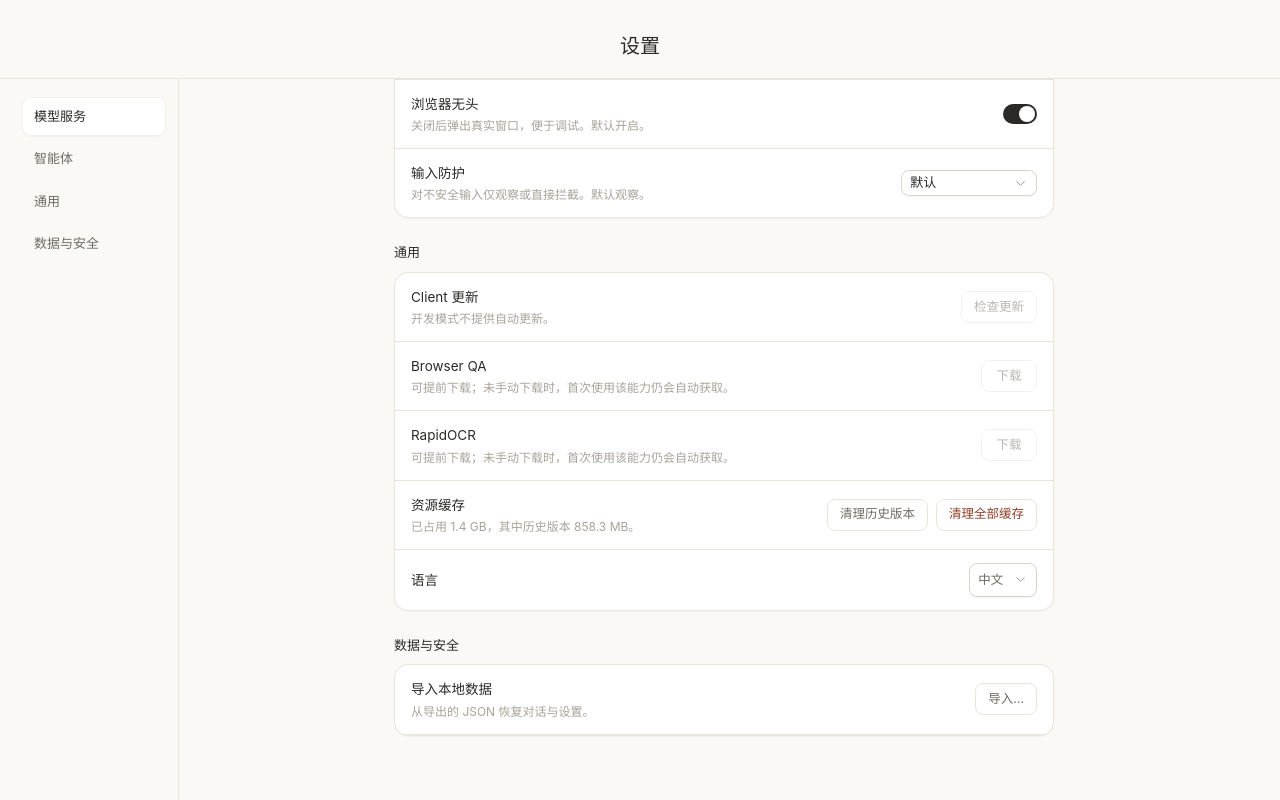
SettingsView › shows storage usage and confirms history or full cache cleanup
(page scrolled)
Expected: the text "已占用 1.4 GB，其中历史版本 858.3 MB。" is shown, [411,519,640,534]
What coordinates should you click on to do the following:
click the button "清理历史版本"
I would click on:
 (878, 515)
Its box is [827,499,928,531].
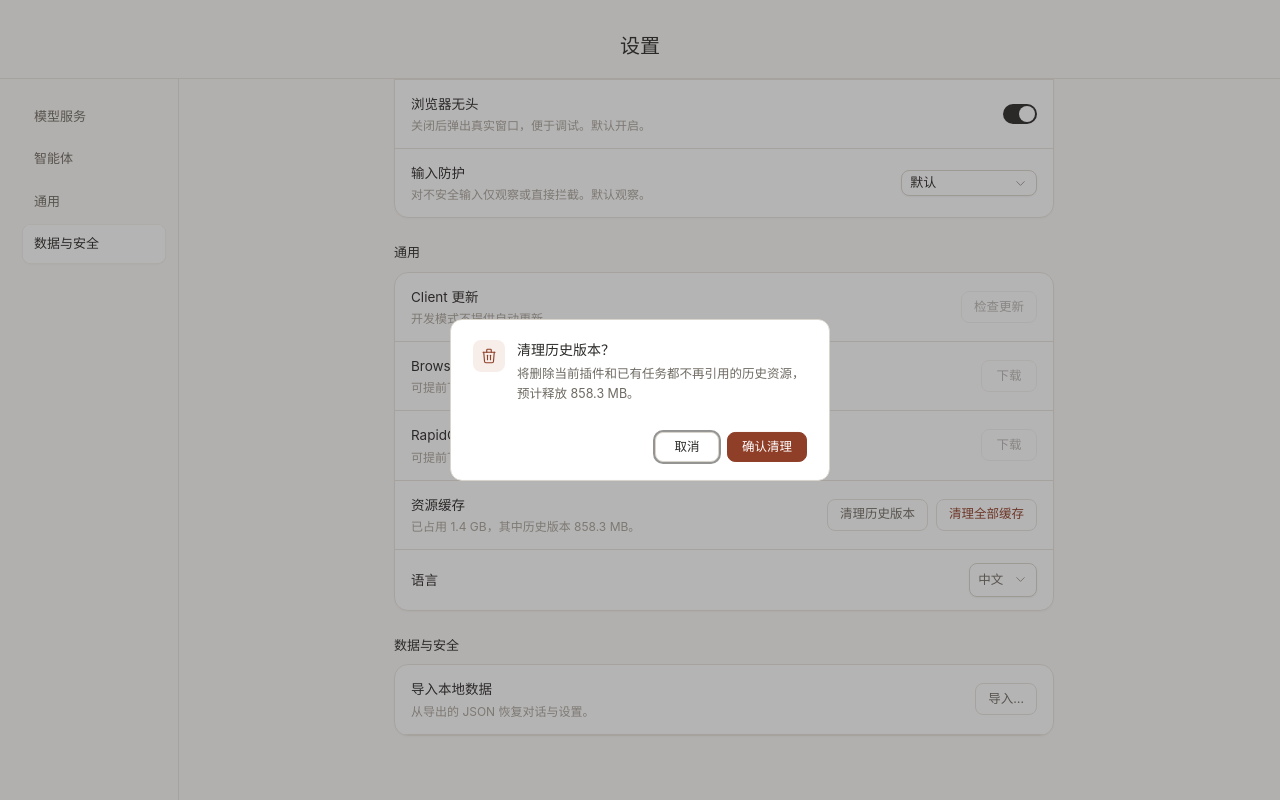
Now the dialog shows "清理历史版本？", box [517,341,615,358]
What coordinates should you click on to do the following:
click the button "确认清理"
I would click on:
 (767, 447)
Its box is [727,432,807,462].
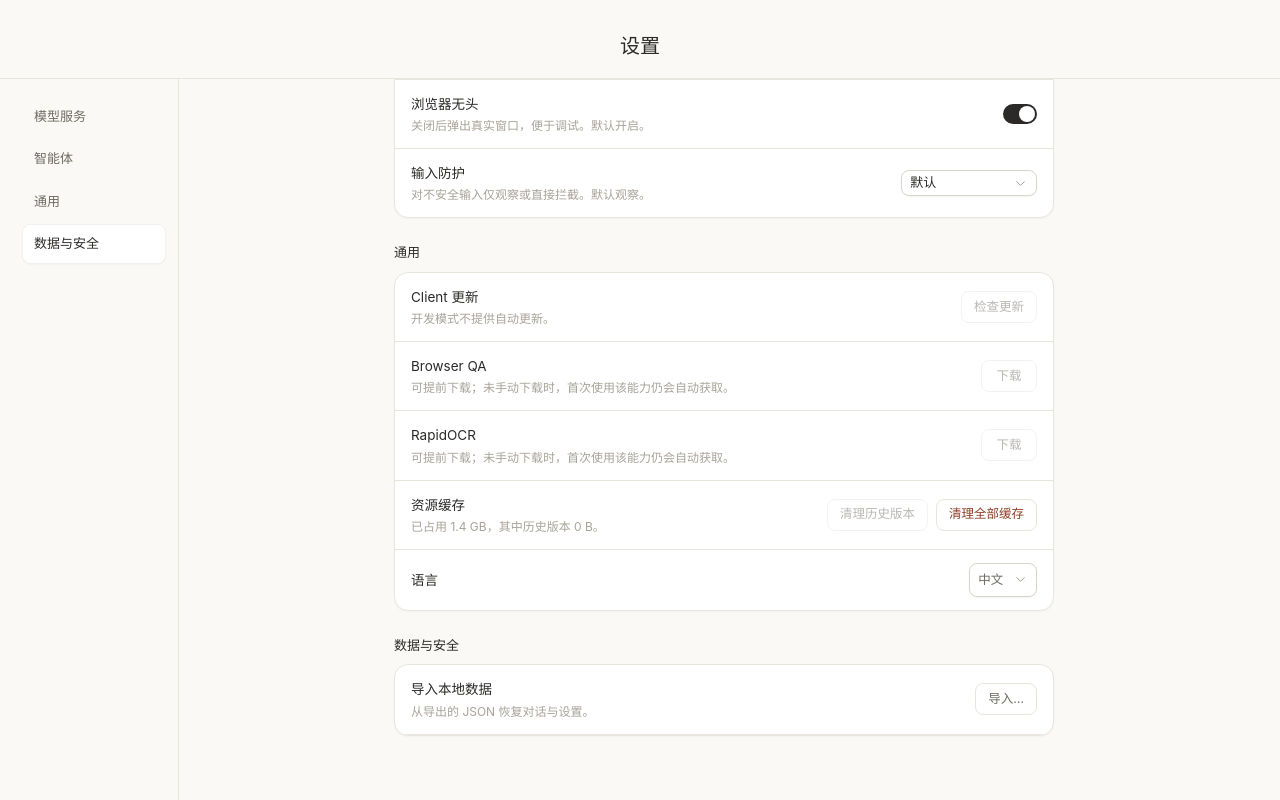
What coordinates should you click on to do the following:
click the button "清理全部缓存"
I would click on:
 (986, 515)
Its box is [936,499,1037,531].
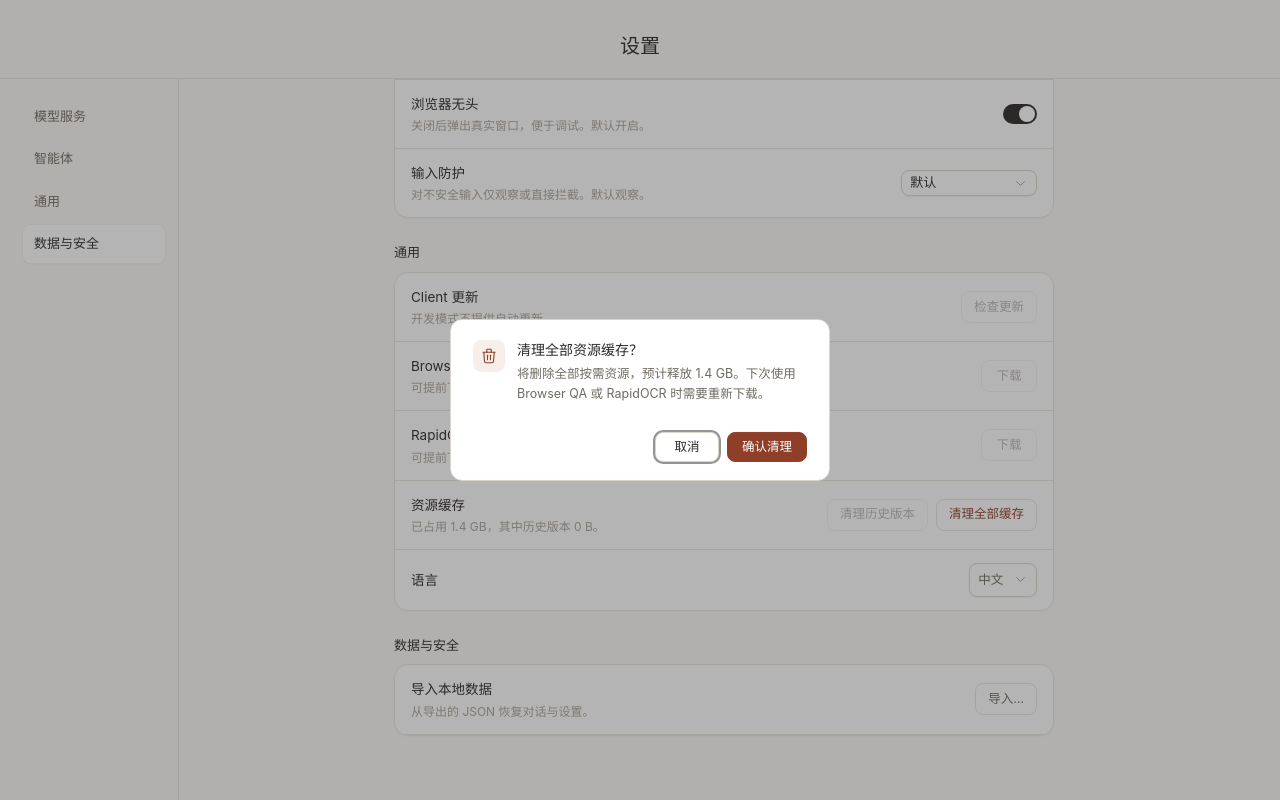
Now the dialog shows "清理全部资源缓存？", box [517,341,643,358]
